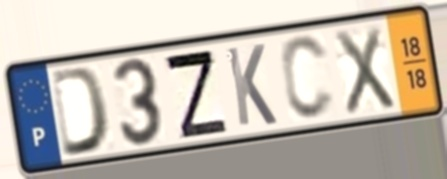3: (110, 55, 167, 149)
C: (277, 32, 338, 123)
D: (48, 63, 113, 161)
K: (223, 41, 280, 130)
X: (331, 22, 399, 119)
Z: (160, 47, 231, 141)
